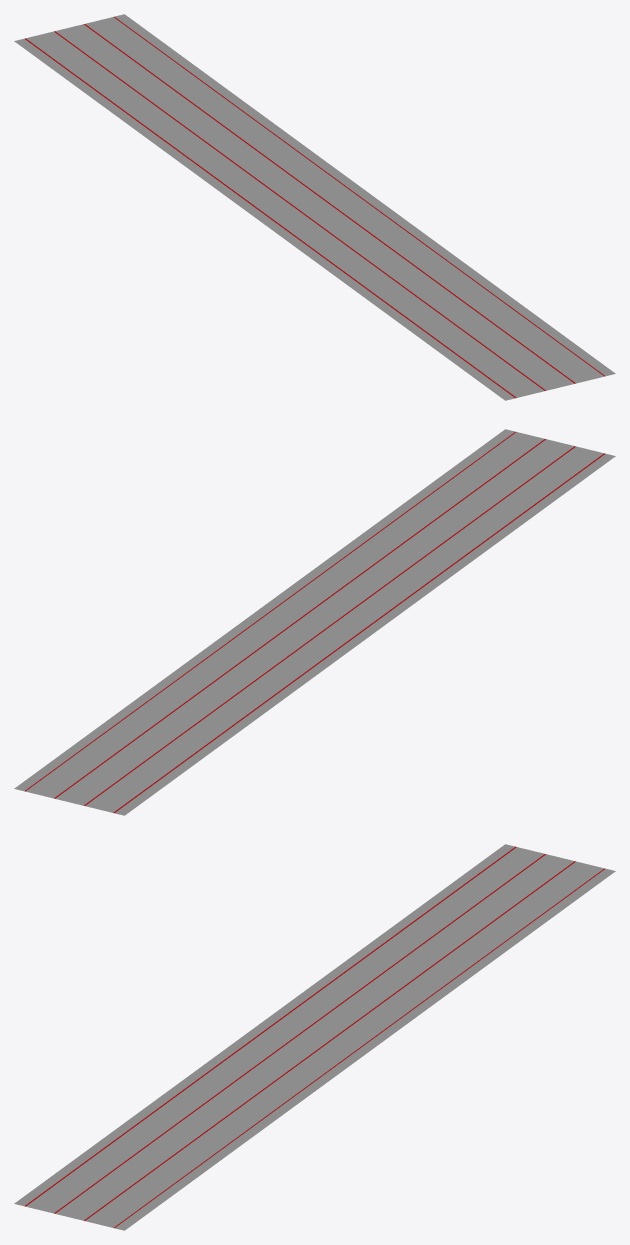
The model's file is road.fbx.
The picture shows the model from 3 angles, top to bottom: view 1: azimuth 30°, elevation 25°; view 2: azimuth 150°, elevation 25°; view 3: azimuth 330°, elevation 25°; orthographic projection.
Parts seen in each view (by area): view 1: Plane; view 2: Plane; view 3: Plane.
Boxes of the visible parts, bbox=[...] form: Plane: bbox=[14, 14, 615, 400]; Plane: bbox=[14, 429, 615, 815]; Plane: bbox=[14, 844, 615, 1230].
Bounding box in the file's own units: 2600 × 0.00326 × 20000.
